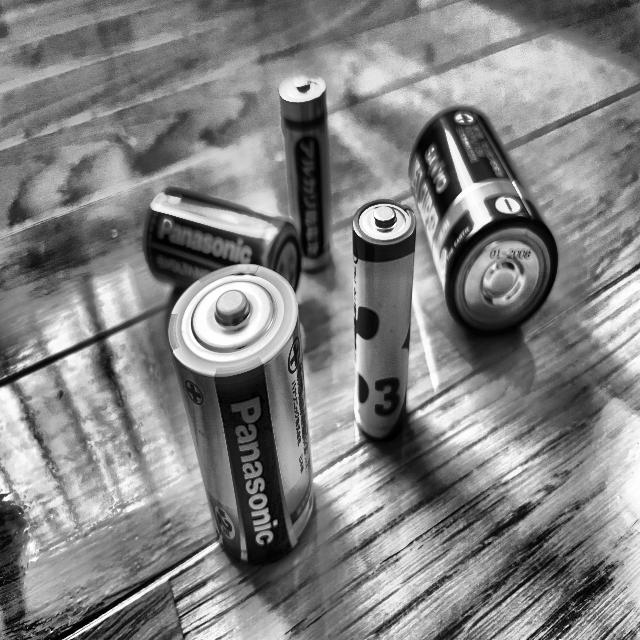drycell: (135, 189, 313, 326), (277, 66, 345, 280)
